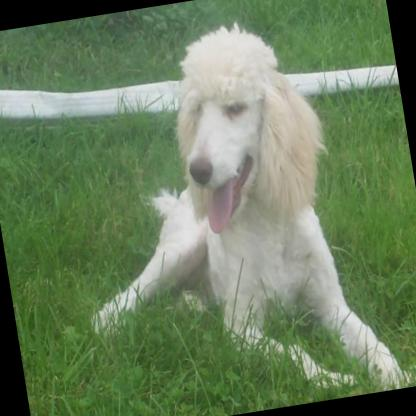standard_poodle: (46, 1, 403, 416)
